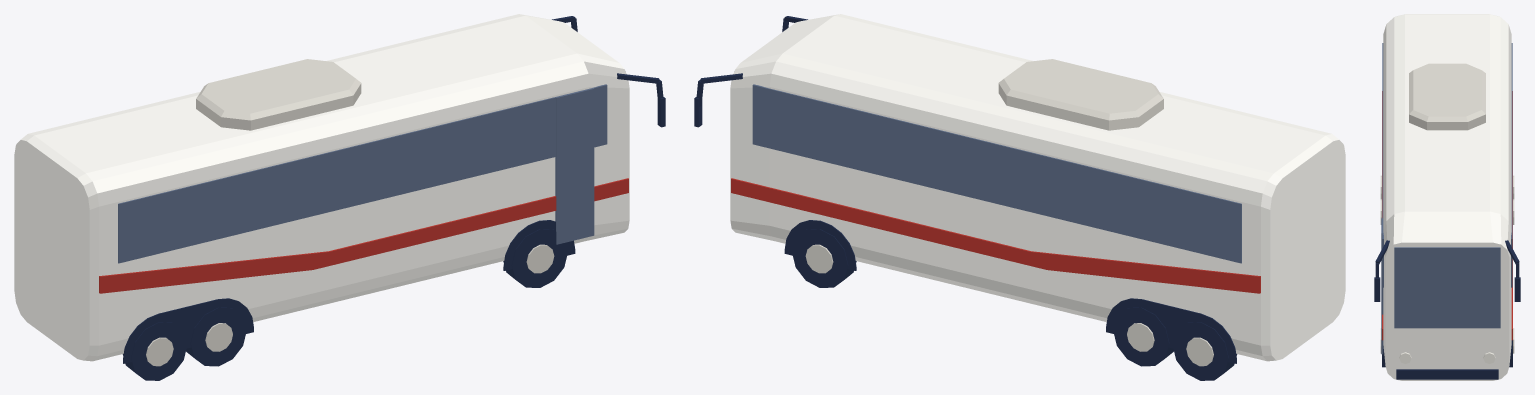
File: coach.glb
3 renders of one model, left to right at view 1: azimuth 30°, elevation 25°; view 2: azimuth 150°, elevation 25°; view 3: azimuth 270°, elevation 25°, orthographic. The views are drawn at different scales.
Visible parts, largest first — view 1: model; view 2: model; view 3: model.
Boxes of the visible parts, x1,y1,x2,y2 form: model: (14,14,665,380); model: (694,14,1345,380); model: (1374,14,1520,380).
Bounding box in the file's own units: 10.54 × 4.01 × 2.86.
